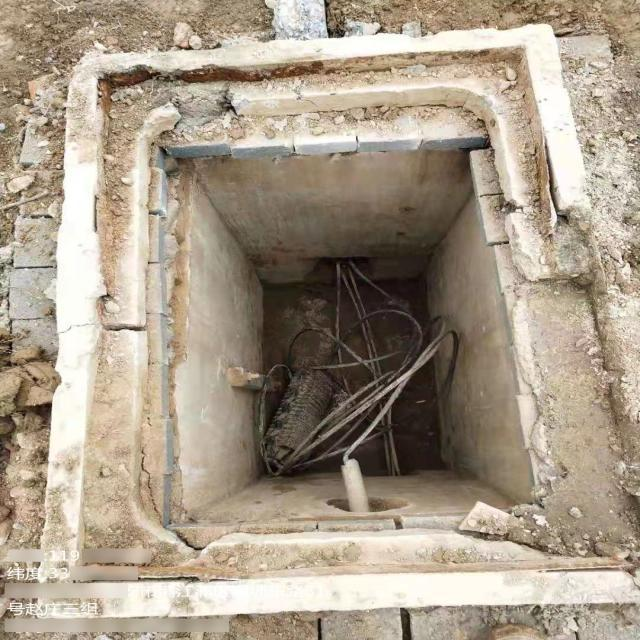Faulty: (35, 24, 640, 621)
